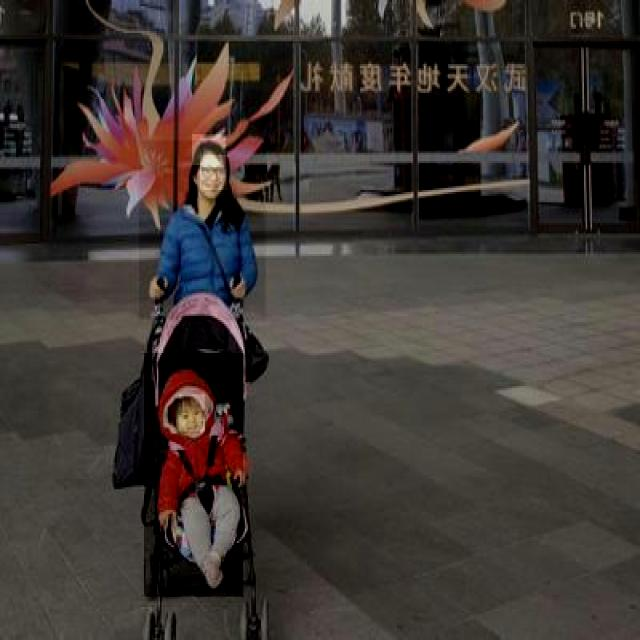face_nomask: (198, 155, 228, 192), (179, 394, 205, 432)
hand_noglove: (140, 267, 174, 311), (222, 266, 254, 310)
head_nohelmet: (190, 134, 226, 167)
person: (142, 353, 244, 599), (137, 140, 266, 322)
